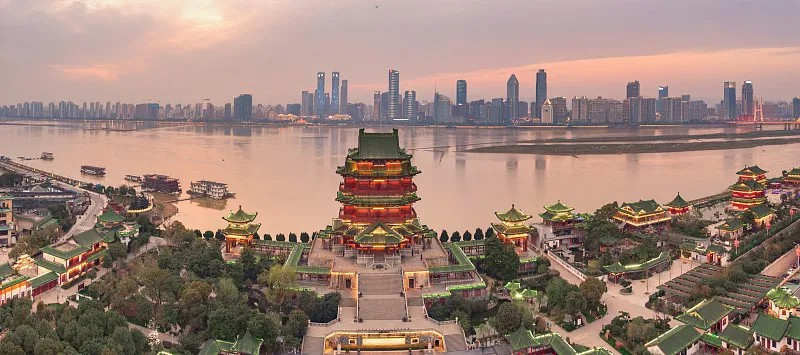Teng: (318, 128, 434, 256)
